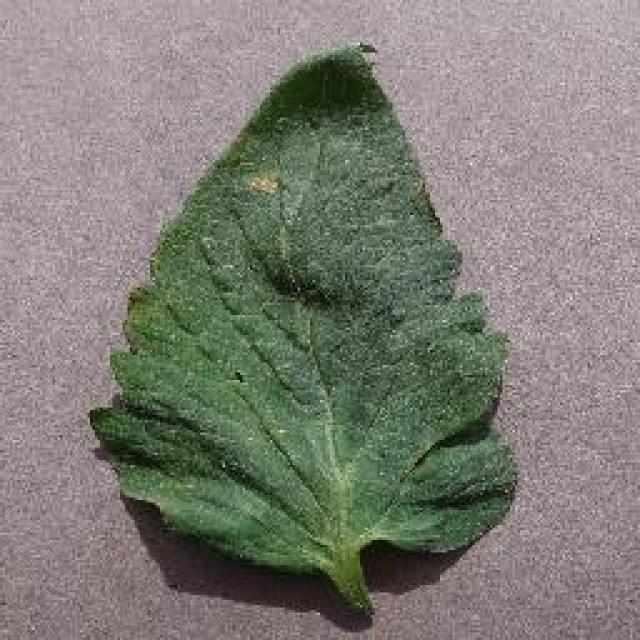Tomato___Target_Spot: (90, 50, 515, 615)
